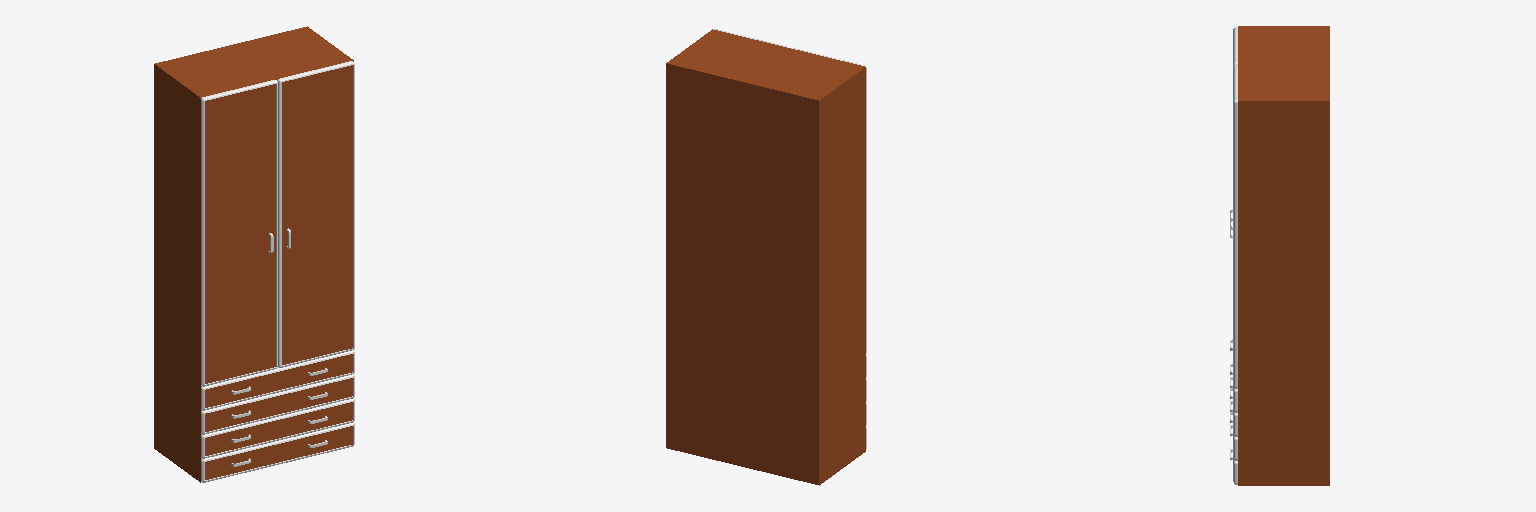
The model's file is armadio_cameretta.obj.
3 renders of one model, left to right at view 1: azimuth 30°, elevation 25°; view 2: azimuth 150°, elevation 25°; view 3: azimuth 270°, elevation 25°, orthographic.
Parts seen in each view (by area): view 1: Box08_1, Box10_4, Box09_3, Box14_12, Box11_7, Box12_8, Box13_10, ChamferBox08_5, ChamferBox07_2, ChamferBox11_11, ChamferBox10_9, ChamferBox09_6 (+1 smaller); view 2: Box08_1; view 3: Box08_1, ChamferBox08_5.
Boxes of the visible parts, x1=… form: Box08_1: x1=154, y1=26, x2=353, y2=482; Box10_4: x1=282, y1=65, x2=352, y2=364; Box09_3: x1=205, y1=84, x2=275, y2=383; Box14_12: x1=205, y1=354, x2=352, y2=407; Box11_7: x1=205, y1=426, x2=352, y2=479; Box12_8: x1=205, y1=402, x2=352, y2=455; Box13_10: x1=205, y1=378, x2=352, y2=431; ChamferBox08_5: x1=277, y1=61, x2=354, y2=367; ChamferBox07_2: x1=201, y1=80, x2=277, y2=386; ChamferBox11_11: x1=201, y1=374, x2=354, y2=434; ChamferBox10_9: x1=201, y1=398, x2=354, y2=458; ChamferBox09_6: x1=201, y1=422, x2=354, y2=482; Box08_1: x1=666, y1=29, x2=865, y2=485; Box08_1: x1=1238, y1=26, x2=1329, y2=485; ChamferBox08_5: x1=1233, y1=64, x2=1237, y2=388.
Size of the model in its own units: 100 by 240 by 57.